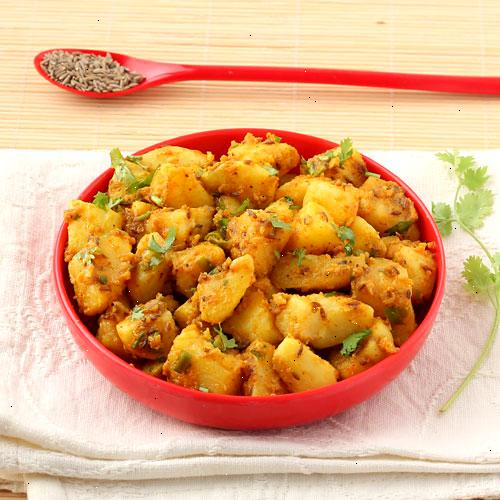aloo sabji: (80, 144, 410, 382)
